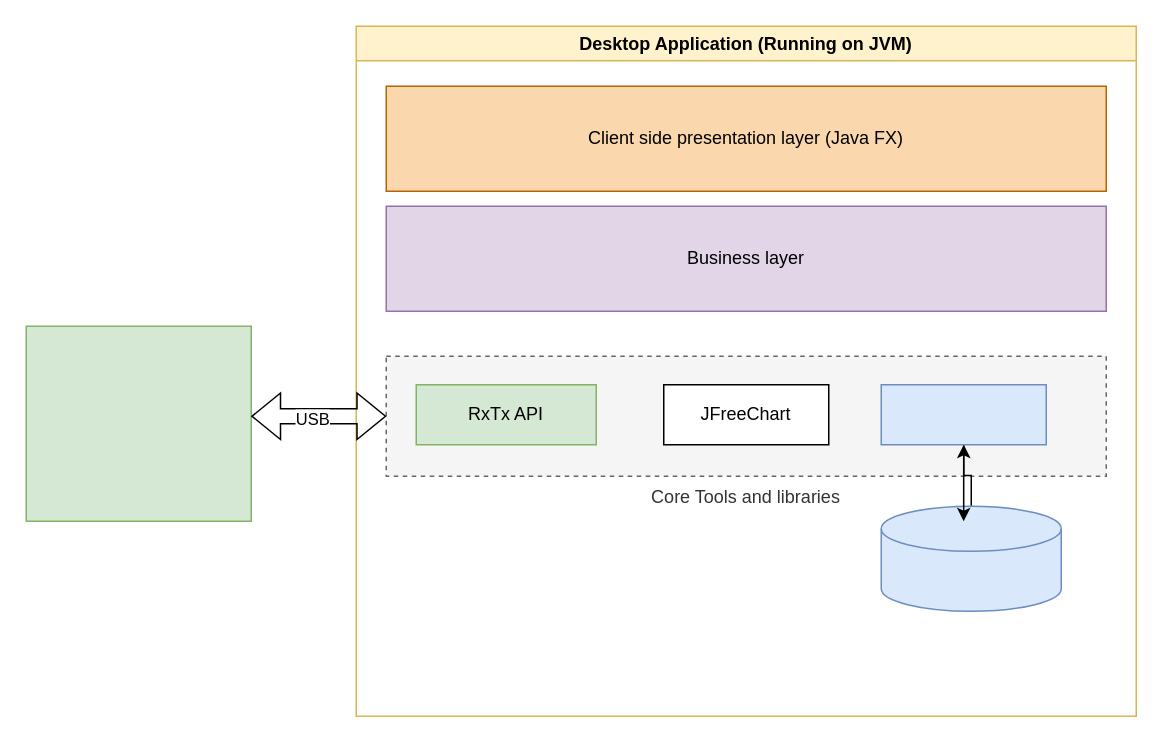
Image size: 1163x743. Some labels were removed from this diagram. Each missing label, with the centre of its shape:
Apache Derby: (970,558)
JDBC: (963,414)
USB to RS 485 Converter: (138,423)
